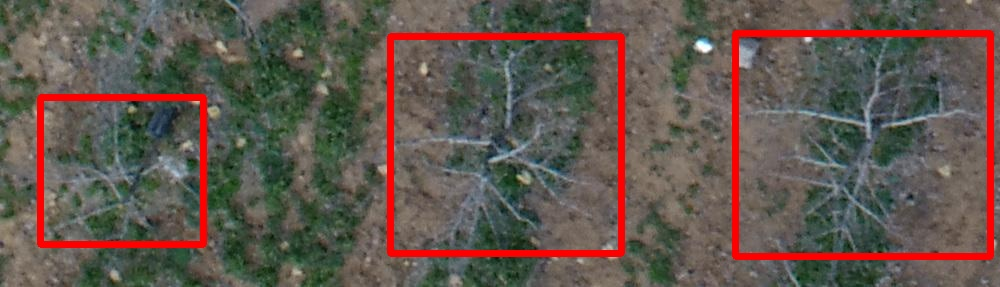apple: (735, 33, 990, 256), (390, 36, 621, 253), (40, 97, 203, 244)
